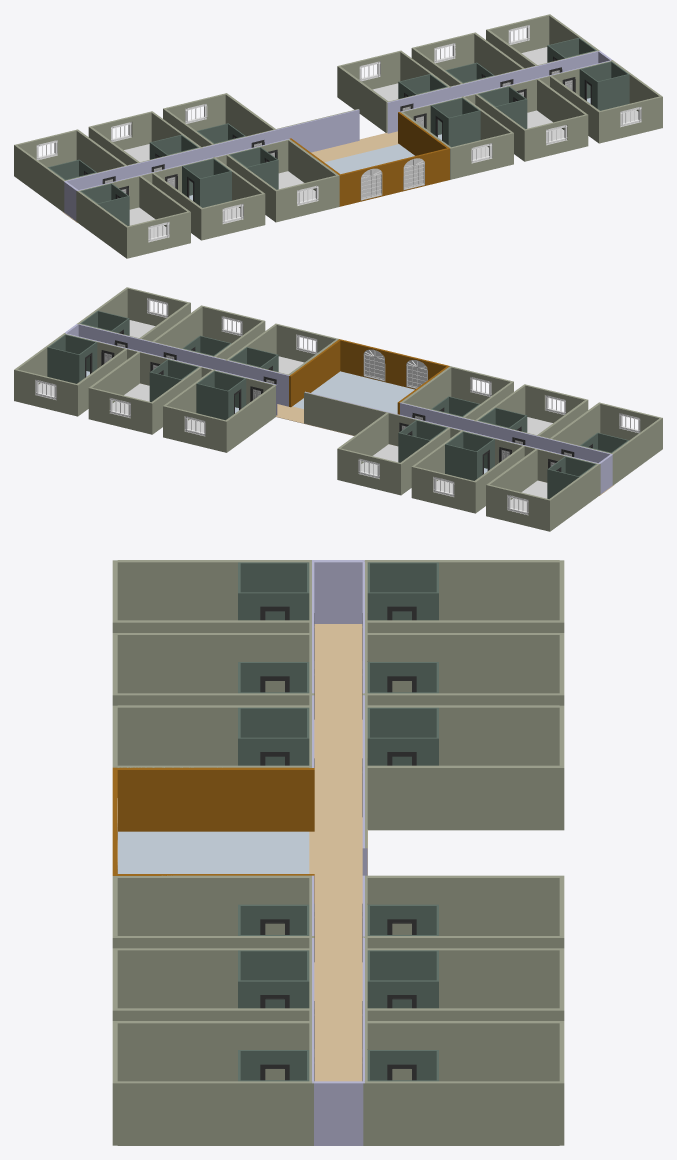
3 renders of one model, top to bottom at view 1: azimuth 30°, elevation 25°; view 2: azimuth 150°, elevation 25°; view 3: azimuth 270°, elevation 25°, orthographic. The views are drawn at different scales.
Visible parts, largest first — view 1: sit_windowframe, hall_middlewall1.007, room_wall4.002, room_wall4.004, room_wall4.005, room_wall4.009, room_wall4.008, room_wall4.001, room_wall3.002, room_wall3.003, room_wall2.010, sit_floor (+60 smaller); view 2: hall_middlewall1.007, sit_floor, sit_windowframe, room_wall4.003, room_wall4.006, room_wall4.007, room_wall4.011, room_wall4.010, room_wall4.012, sit_hallwall2, room_wall3.003, room_wall3.002 (+58 smaller); view 3: hall floor, sit_hallwall, room_wall3.008, room_wall3.012, room_wall2.007, room_wall2.010, room_wall2.001, room_wall2.004, room_wall2.008, room_wall2.012, room_wall2.006, sit_floor (+34 smaller).
Part boxes in pixels (<box>): sit_windowframe: <box>341,148,448,206</box>; hall_middlewall1.007: <box>268,109,359,152</box>; room_wall4.002: <box>125,211,190,258</box>; room_wall4.004: <box>200,193,265,240</box>; room_wall4.005: <box>274,175,339,222</box>; room_wall4.009: <box>523,114,588,161</box>; room_wall4.008: <box>598,96,662,143</box>; room_wall4.001: <box>449,132,513,179</box>; room_wall3.002: <box>76,191,127,257</box>; room_wall3.003: <box>15,145,64,212</box>; room_wall2.010: <box>338,66,388,132</box>; sit_floor: <box>324,144,414,174</box>; hall_middlewall1.007: <box>304,391,395,445</box>; sit_floor: <box>292,371,414,413</box>; sit_windowframe: <box>340,339,447,389</box>; room_wall4.003: <box>486,484,551,531</box>; room_wall4.006: <box>411,466,476,513</box>; room_wall4.007: <box>337,448,402,495</box>; room_wall4.011: <box>88,387,153,434</box>; room_wall4.010: <box>163,405,227,452</box>; room_wall4.012: <box>14,369,78,416</box>; sit_hallwall2: <box>289,339,340,407</box>; room_wall3.003: <box>549,463,600,530</box>; room_wall3.002: <box>612,418,661,485</box>; hall floor: <box>309,624,367,1081</box>; sit_hallwall: <box>112,767,314,831</box>; room_wall3.008: <box>117,1081,313,1145</box>; room_wall3.012: <box>363,1081,559,1145</box>; room_wall2.007: <box>367,765,559,830</box>; room_wall2.010: <box>367,875,559,935</box>; room_wall2.001: <box>117,875,309,935</box>; room_wall2.004: <box>117,633,309,693</box>; room_wall2.008: <box>117,1021,309,1081</box>; room_wall2.012: <box>367,1021,559,1081</box>; room_wall2.006: <box>367,633,559,693</box>; sit_floor: <box>118,831,309,873</box>.
Size of the model in its own units: 5084 by 283 by 1854.
